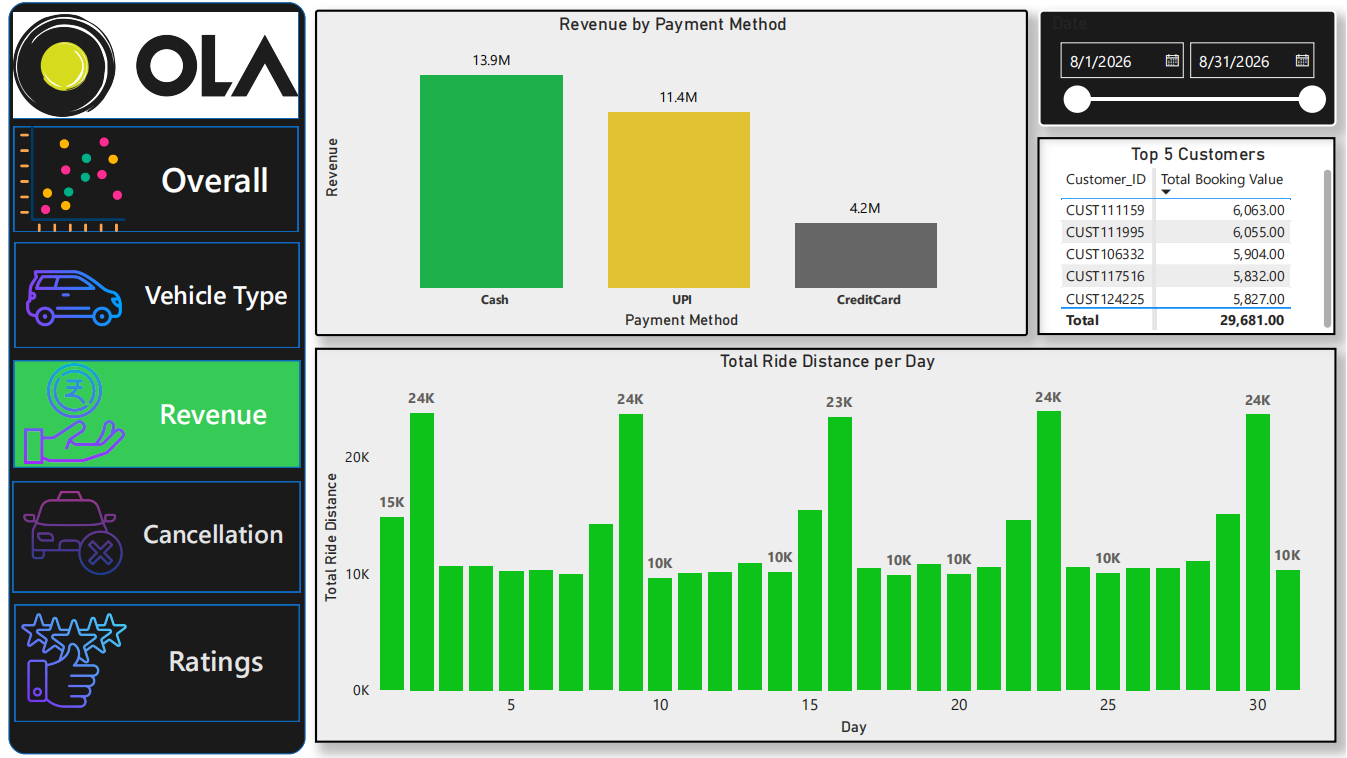

The dashboard page shown, as its layout file describes it:
{"tool":"powerbi","page":{"name":"Revenue","canvas":[1280,720],"ordinal":2},"visuals":[{"type":"shape","box":[9.6,0,282,714],"z":0},{"type":"shape","box":[15,9.6,270,100.2],"z":1000},{"type":"image","box":[15.1,9.6,270.3,100.2],"z":2000},{"type":"shape","box":[15.1,118.4,270,100.2],"z":3000},{"type":"image","box":[15.1,118,112.5,100.2],"z":4000},{"type":"textbox","box":[127.6,140,157.8,56.3],"z":5000},{"type":"shape","box":[16.3,228.3,270,100.2],"z":6000},{"type":"textbox","box":[129,255.2,157.8,50.8],"z":7000},{"type":"image","box":[16.5,227.8,112.5,100.2],"z":8000},{"type":"shape","box":[15.1,340.3,272,102],"z":9000},{"type":"textbox","box":[126.2,366.4,157.8,50.8],"z":10000},{"type":"image","box":[16,343,112.5,95],"z":11000},{"type":"shape","box":[13.7,455,273,105],"z":12000},{"type":"image","box":[15.1,454,112.5,100.2],"z":13000},{"type":"textbox","box":[126.2,481.6,157.8,50.8],"z":14000},{"type":"shape","box":[16.5,572,270.3,111.1],"z":15000},{"type":"textbox","box":[127.6,601,157.8,50.8],"z":16000},{"type":"image","box":[16.5,575,112.5,100.2],"z":17000},{"type":"actionButton","box":[16.5,118,267.6,100.2],"z":18000},{"type":"actionButton","box":[17.8,227.8,267.6,100.2],"z":19000},{"type":"actionButton","box":[17.8,456.9,267.6,104.3],"z":20000},{"type":"actionButton","box":[17.8,572.2,267.6,111.1],"z":21000},{"type":"columnChart","title":"Revenue by Payment Method","fields":{"Category":["OLA_Data.Payment_Method"],"Y":["Sum(OLA_Data.Booking_Value)"]},"box":[300.5,6.9,676.5,310.1],"z":22000},{"type":"tableEx","title":"Top 5 Customers","fields":{"Values":["OLA_Data.Customer_ID","Sum(OLA_Data.Booking_Value)"]},"box":[987,128,282.7,188],"z":23000},{"type":"clusteredColumnChart","title":"Total Ride Distance per Day","fields":{"Y":["Sum(OLA_Data.Ride_Distance)"],"Category":["OLA_Data.Date.Variation.Date Hierarchy.Day"]},"box":[300.5,328,970.2,374.6],"z":24000},{"type":"slicer","title":"Date","fields":{"Values":["OLA_Data.Date"]},"box":[988,6.9,282.7,111.1],"z":25000}]}

Visuals, with their boxes in screenshot pixels (x1, y1, x2, y2), scaled from the page's 1280x720 canvas onto the 1347x758 screenshot:
shape: l=10, t=0, r=307, b=752
shape: l=16, t=10, r=300, b=116
image: l=16, t=10, r=300, b=116
shape: l=16, t=125, r=300, b=230
image: l=16, t=124, r=134, b=230
textbox: l=134, t=147, r=300, b=207
shape: l=17, t=240, r=301, b=346
textbox: l=136, t=269, r=302, b=322
image: l=17, t=240, r=136, b=345
shape: l=16, t=358, r=302, b=466
textbox: l=133, t=386, r=299, b=439
image: l=17, t=361, r=135, b=461
shape: l=14, t=479, r=302, b=590
image: l=16, t=478, r=134, b=583
textbox: l=133, t=507, r=299, b=560
shape: l=17, t=602, r=302, b=719
textbox: l=134, t=633, r=300, b=686
image: l=17, t=605, r=136, b=711
actionButton: l=17, t=124, r=299, b=230
actionButton: l=19, t=240, r=300, b=345
actionButton: l=19, t=481, r=300, b=591
actionButton: l=19, t=602, r=300, b=719
"Revenue by Payment Method" columnChart: l=316, t=7, r=1028, b=334
"Top 5 Customers" tableEx: l=1039, t=135, r=1336, b=333
"Total Ride Distance per Day" clusteredColumnChart: l=316, t=345, r=1337, b=740
"Date" slicer: l=1040, t=7, r=1337, b=124
